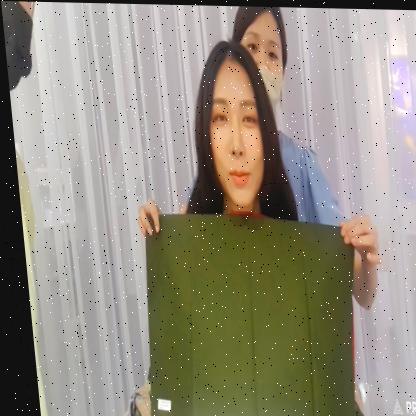streamer: (110, 2, 388, 416), (165, 37, 311, 416), (0, 0, 66, 416)
